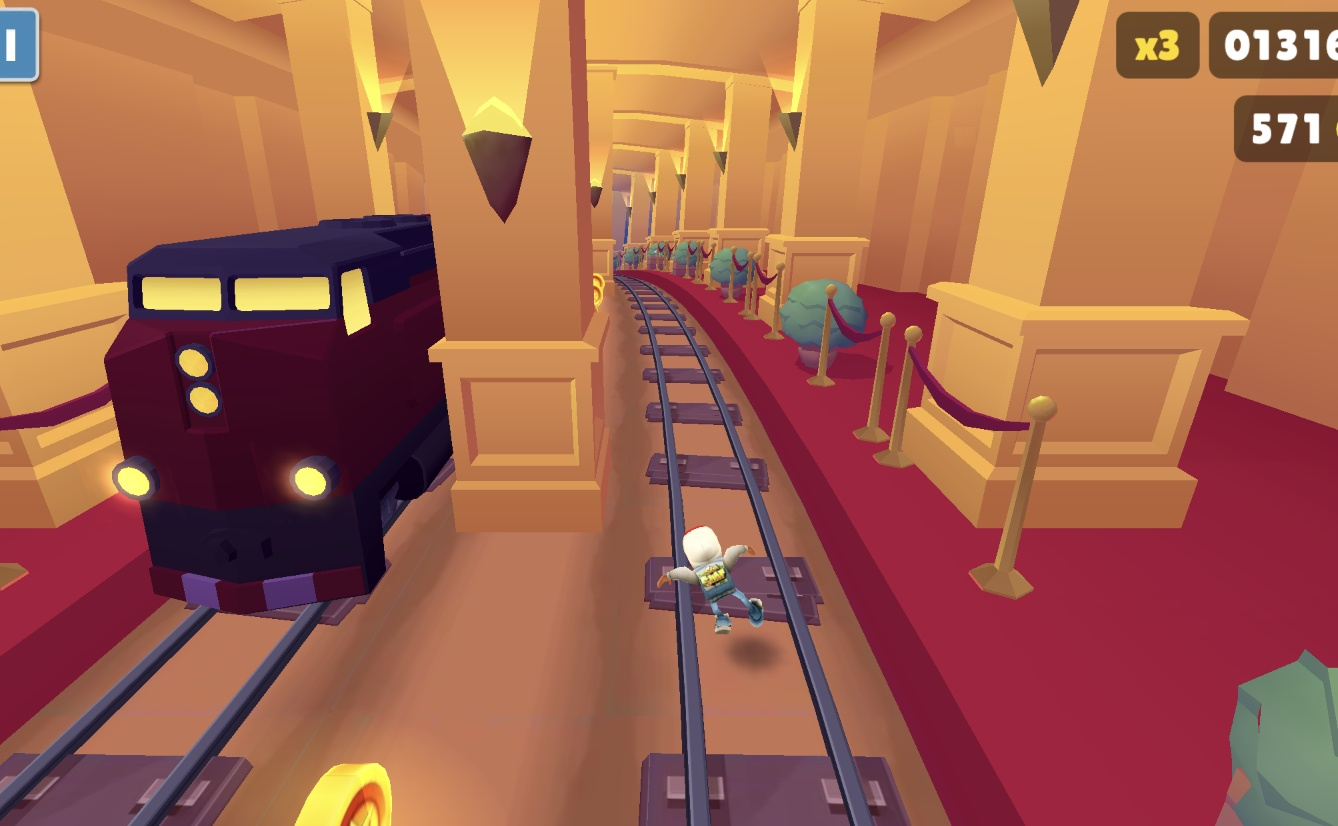pillar: (367, 0, 599, 537)
train: (105, 222, 442, 614)
